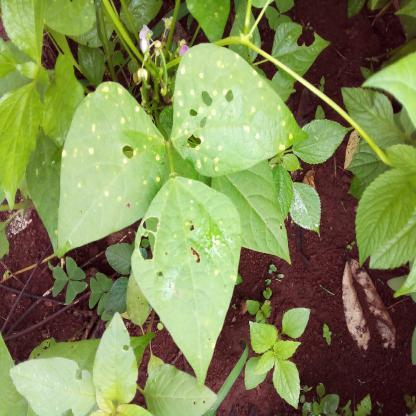Beans_Rust: (131, 174, 241, 390), (54, 83, 166, 262), (164, 45, 307, 174)
